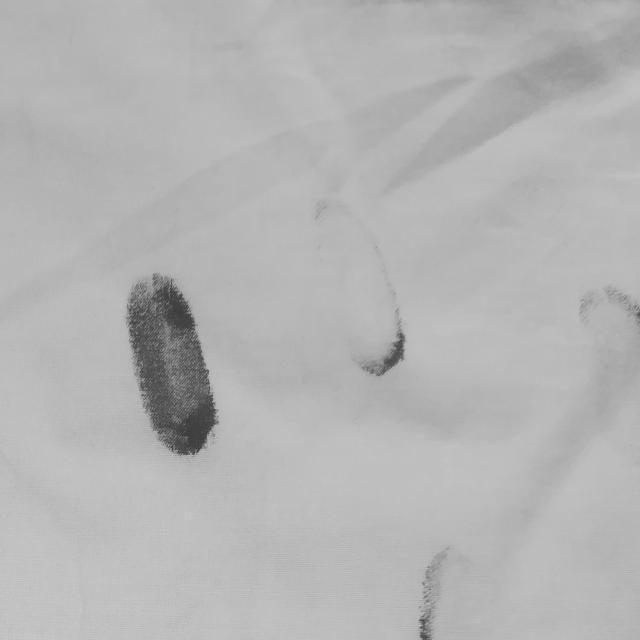Stain: (126, 273, 217, 455), (315, 198, 405, 376), (576, 282, 640, 331), (420, 547, 451, 640)
